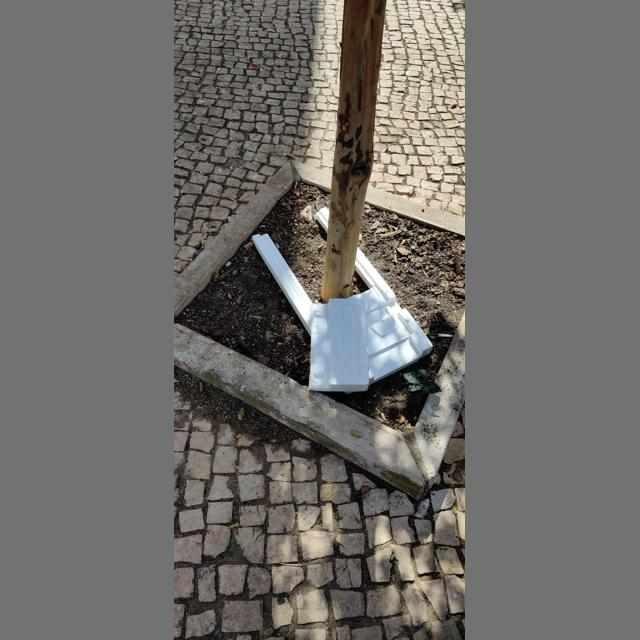litter: (253, 207, 434, 394), (309, 299, 370, 391), (438, 334, 454, 337), (230, 199, 238, 203), (359, 234, 362, 242)
